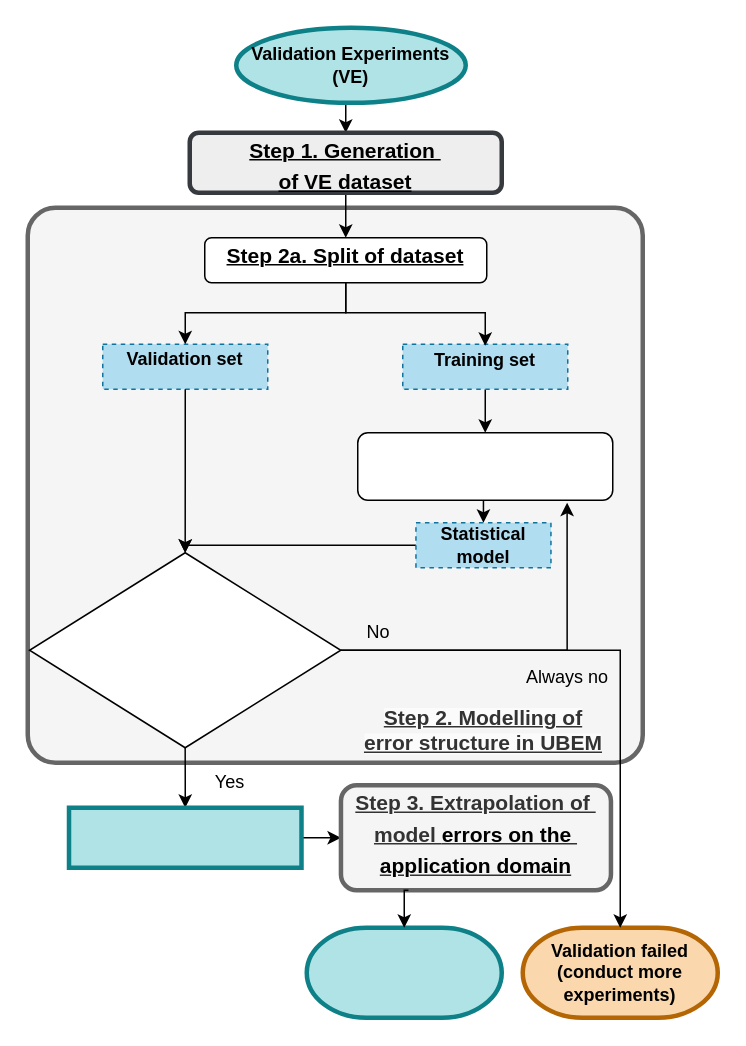
The diagram is 746 pixels wide and 1046 high, and some of its shapes have lost their labels. The centre of each missing label's shape, as x and y in pixels:
"Error structure expressed by a statistical model" belongs at point 184,837.
"Estimated Model Predictive Capability" belongs at point 403,972.
"Step 2b. Statistical modelling" belongs at point 484,465.
"Step 2c. Model evaluation - Can this GP model predict the model errors well?" belongs at point 184,649.
